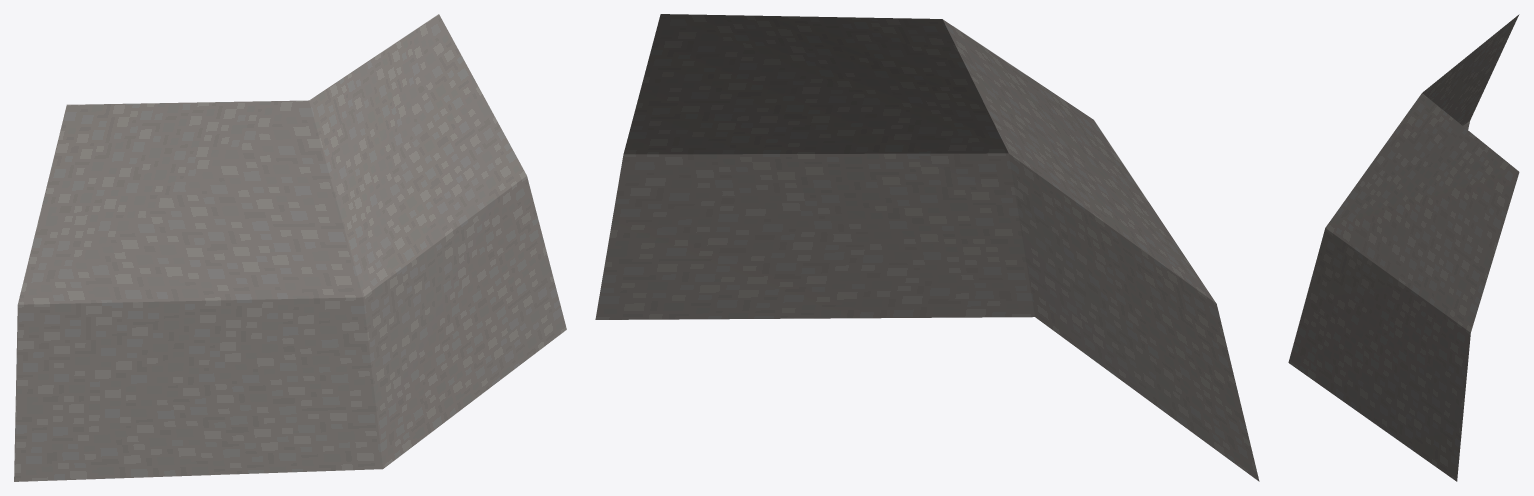
Rendered from kd_stage_135c43_4_29_bounded_piece_13.glb.
3 views of the same model, side by side, from view 1: azimuth 30°, elevation 25°; view 2: azimuth 150°, elevation 25°; view 3: azimuth 270°, elevation 25° (orthographic). The views are drawn at different scales.
Parts seen in each view (by area): view 1: kd_stage_135c43_4_29_bounded_piece_13; view 2: kd_stage_135c43_4_29_bounded_piece_13; view 3: kd_stage_135c43_4_29_bounded_piece_13.
Part boxes in pixels (x1,y1,x2,y2): kd_stage_135c43_4_29_bounded_piece_13: (14, 14, 566, 481); kd_stage_135c43_4_29_bounded_piece_13: (595, 14, 1259, 481); kd_stage_135c43_4_29_bounded_piece_13: (1288, 14, 1519, 481).
Bounding box in the file's own units: 0.2264 × 0.1234 × 0.0928.
1 material, 1 textured.
